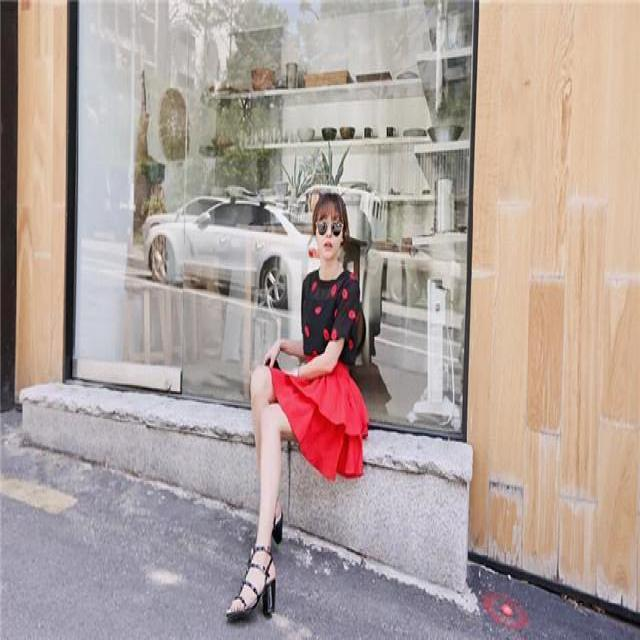short-sleeve-top: (300, 265, 365, 361)
skirt: (271, 346, 365, 481)
